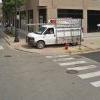Crosswalk: (50, 49, 100, 90)
